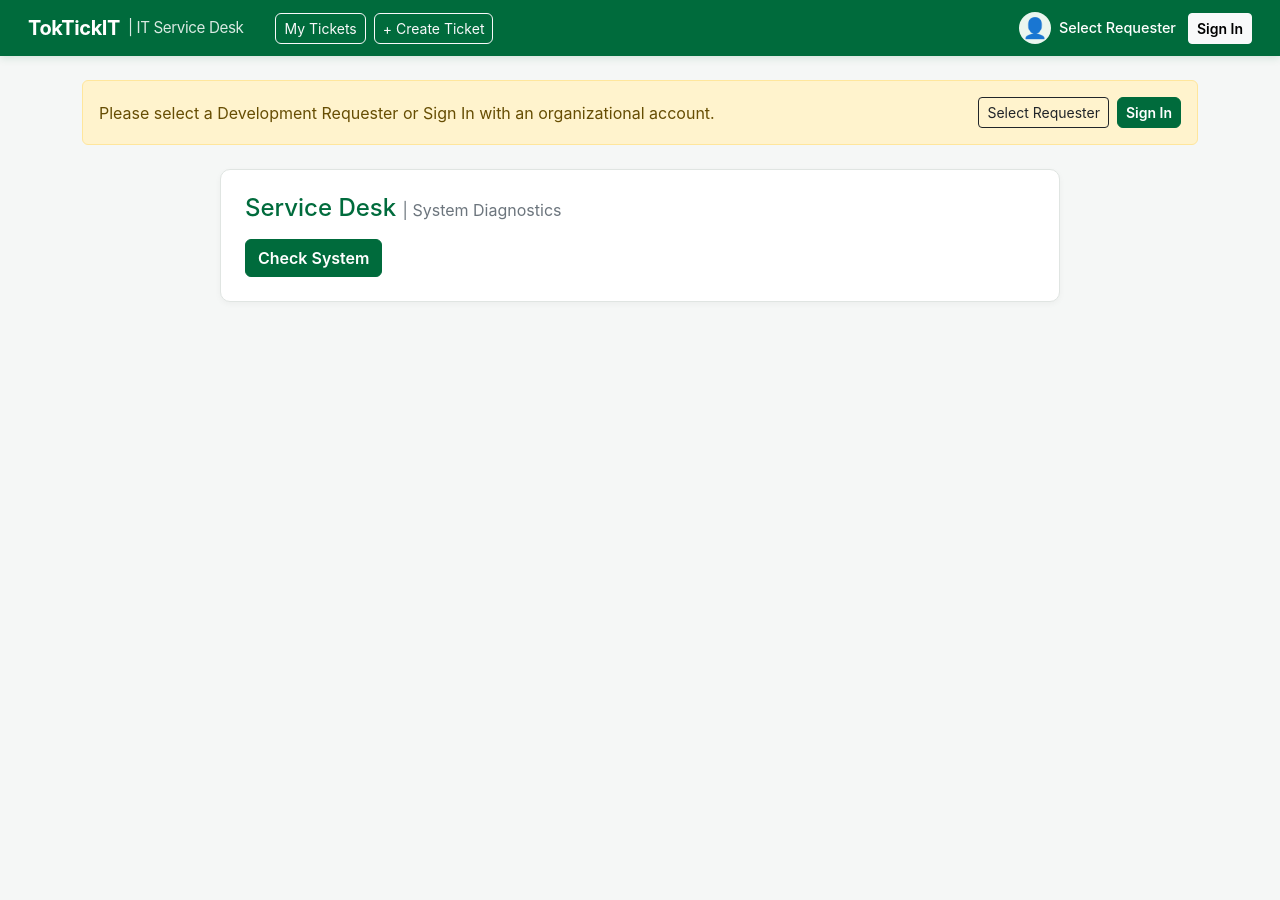
Test: Lab 3 Auth Flow (UI-01, AC-01..03, TEST-AUTH-01..06) › renders Sign In button and opens Login Page when unauthenticated
Click the button with test id "sign-in-prompt-button".
click(1149, 112)  # box x1=1117 y1=97 x2=1181 y2=128
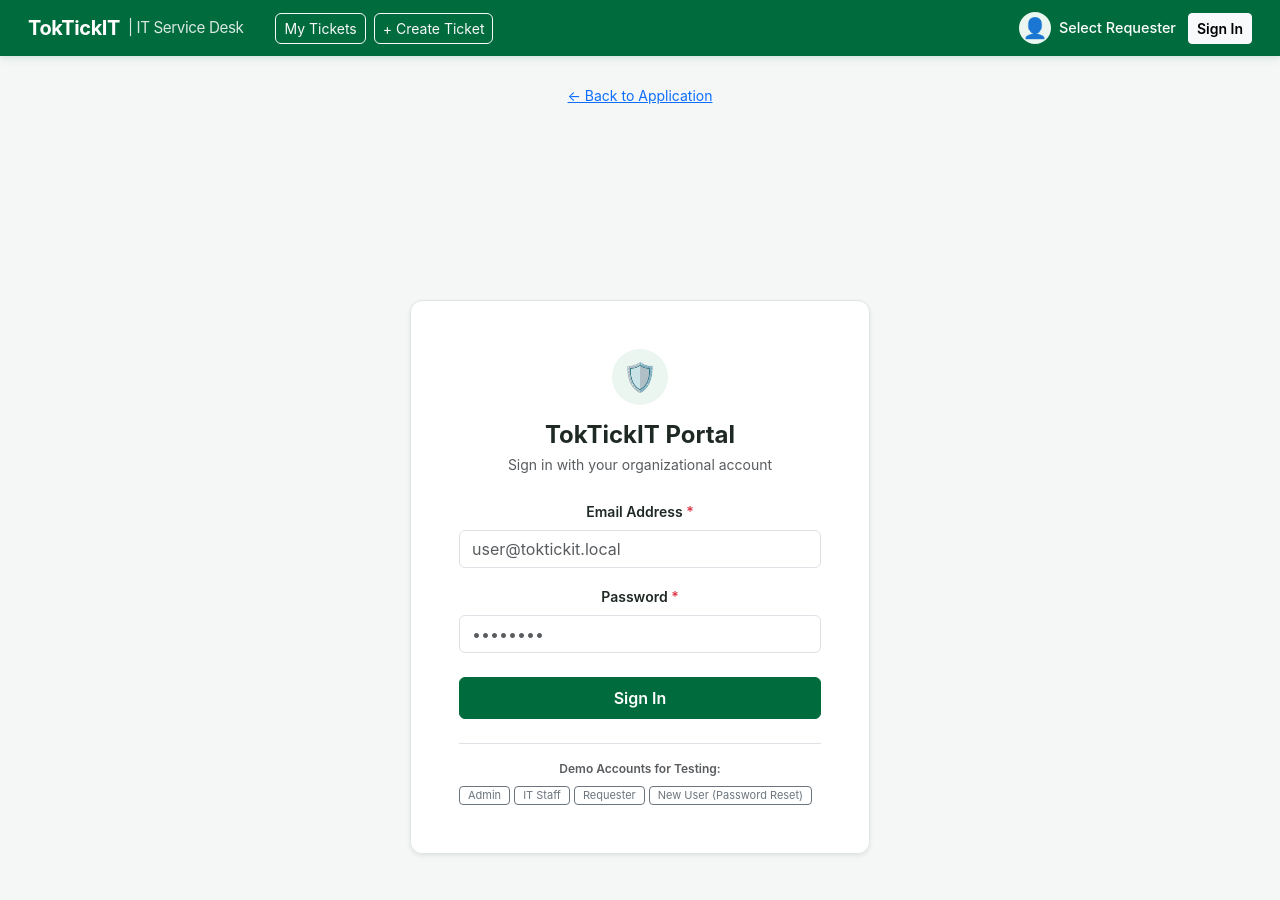
Result: the form with test id "login-form" is shown at x1=459 y1=499 x2=821 y2=719
Result: the field with test id "login-email-input" is shown at x1=459 y1=530 x2=821 y2=568
Result: the password field with test id "login-password-input" is shown at x1=459 y1=615 x2=821 y2=653
